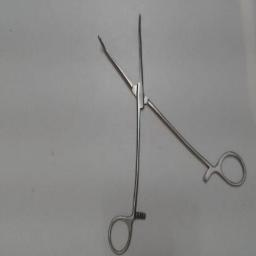Lahey Forceps: (92, 9, 252, 255)
